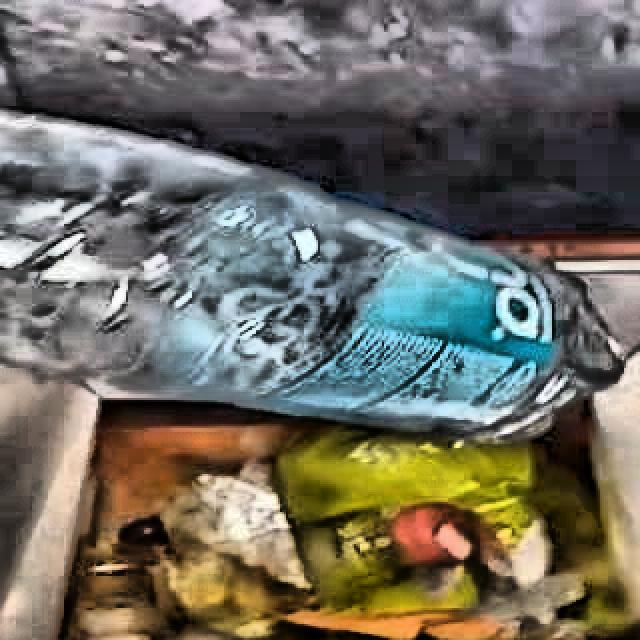plastic: (0, 112, 621, 443)
